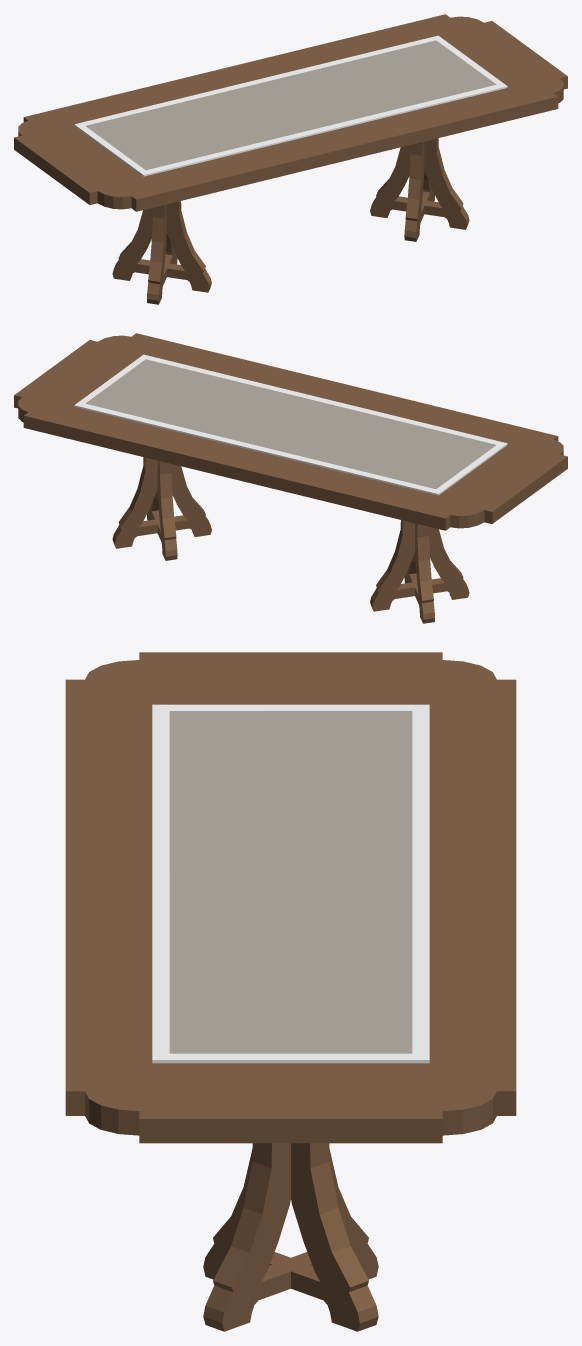
The model's file is SM_Table_01.glb.
The picture shows the model from 3 angles, top to bottom: view 1: azimuth 30°, elevation 25°; view 2: azimuth 150°, elevation 25°; view 3: azimuth 270°, elevation 25°; orthographic projection. The views are drawn at different scales.
Visible parts, largest first — view 1: SM_Table_01; view 2: SM_Table_01; view 3: SM_Table_01.
Part boxes in pixels (bbox=[...]): SM_Table_01: bbox=[14, 14, 567, 304]; SM_Table_01: bbox=[14, 333, 567, 623]; SM_Table_01: bbox=[65, 652, 516, 1331].
Bounding box in the file's own units: 3.01 × 0.8803 × 1.23.
Materials: 1 (1 with a texture image).
